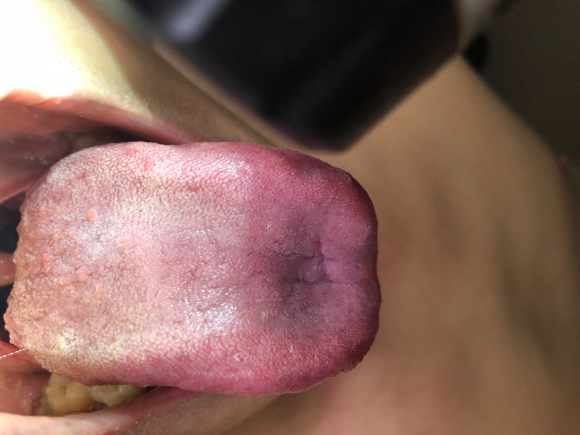hongshe: (3, 141, 382, 396)
huangtaishe: (3, 141, 382, 396)
liewenshe: (260, 231, 349, 290)
